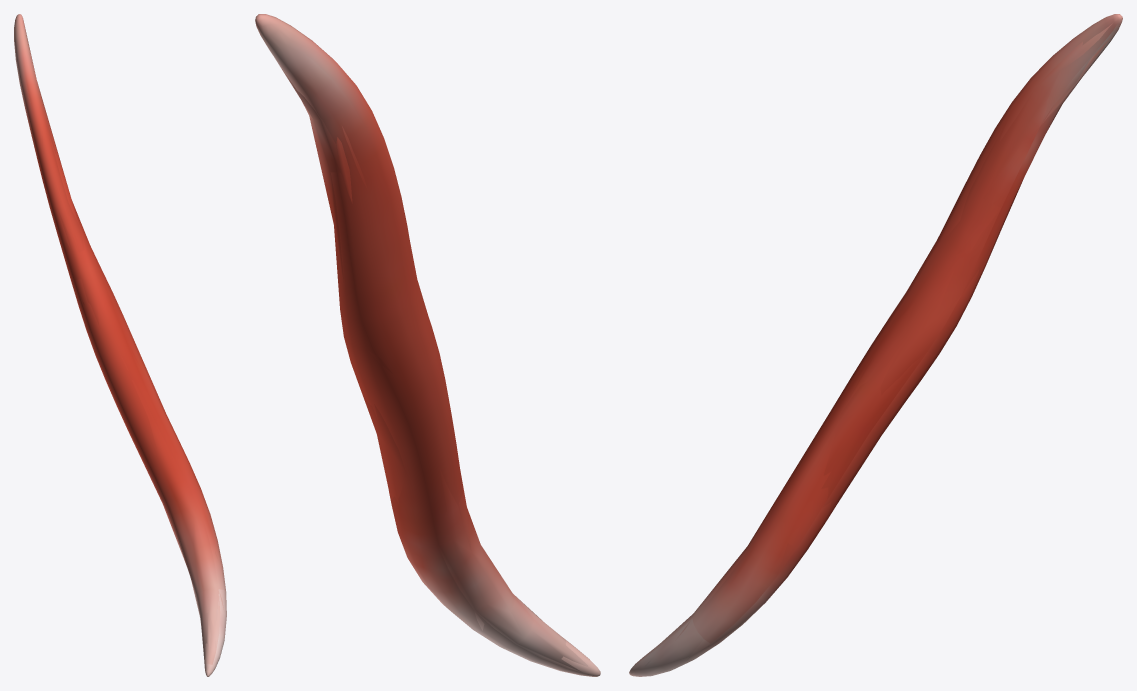
The model's file is L Teres Minor.fbx.
3 views of the same model, side by side, from view 1: azimuth 30°, elevation 25°; view 2: azimuth 150°, elevation 25°; view 3: azimuth 270°, elevation 25° (orthographic). The views are drawn at different scales.
Parts seen in each view (by area): view 1: L Teres Minor, L Teres Minor low; view 2: L Teres Minor, L Teres Minor low; view 3: L Teres Minor, L Teres Minor low.
Boxes of the visible parts, left/top/right/bottom form: L Teres Minor: left=14, top=14, right=226, bottom=676; L Teres Minor low: left=23, top=30, right=224, bottom=667; L Teres Minor: left=255, top=14, right=600, bottom=676; L Teres Minor low: left=275, top=59, right=592, bottom=672; L Teres Minor: left=629, top=14, right=1122, bottom=676; L Teres Minor low: left=645, top=23, right=1114, bottom=669.
Size of the model in its own units: 3.47 by 22.26 by 15.03.
